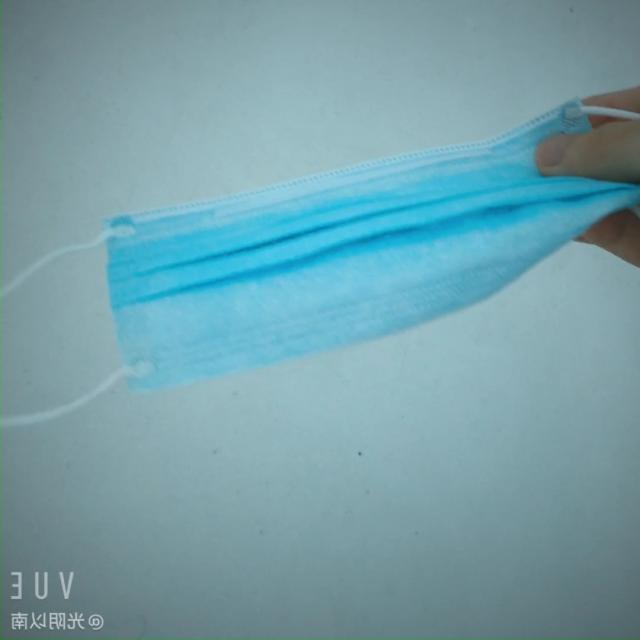face mask: (96, 89, 632, 372)
